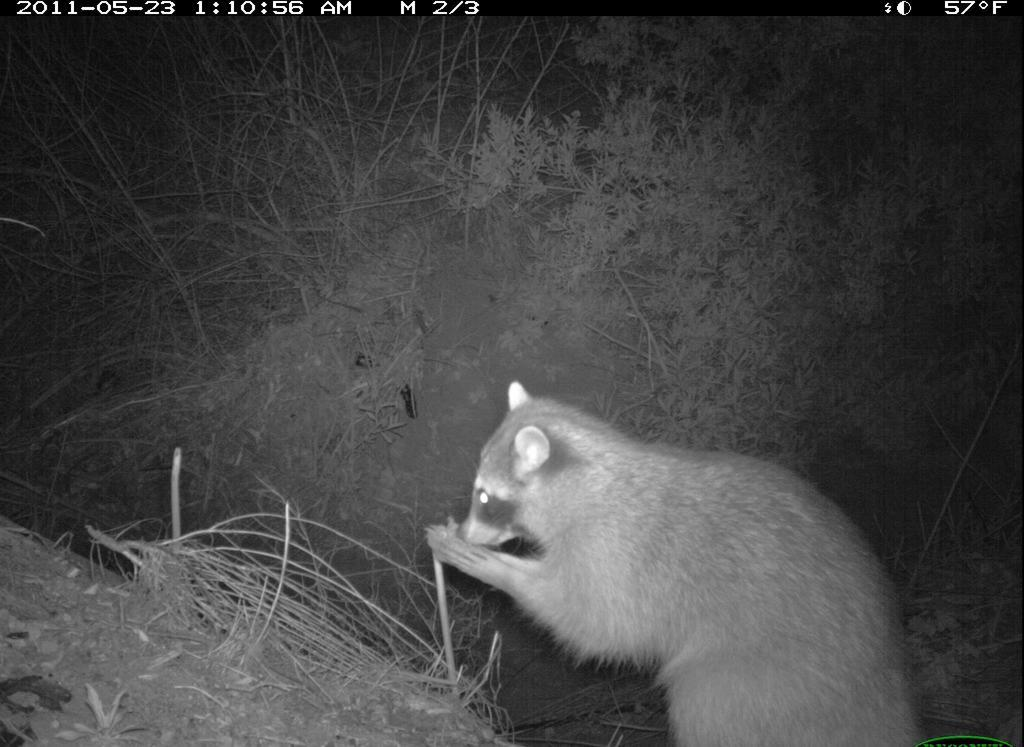raccoon: (413, 372, 929, 744)
